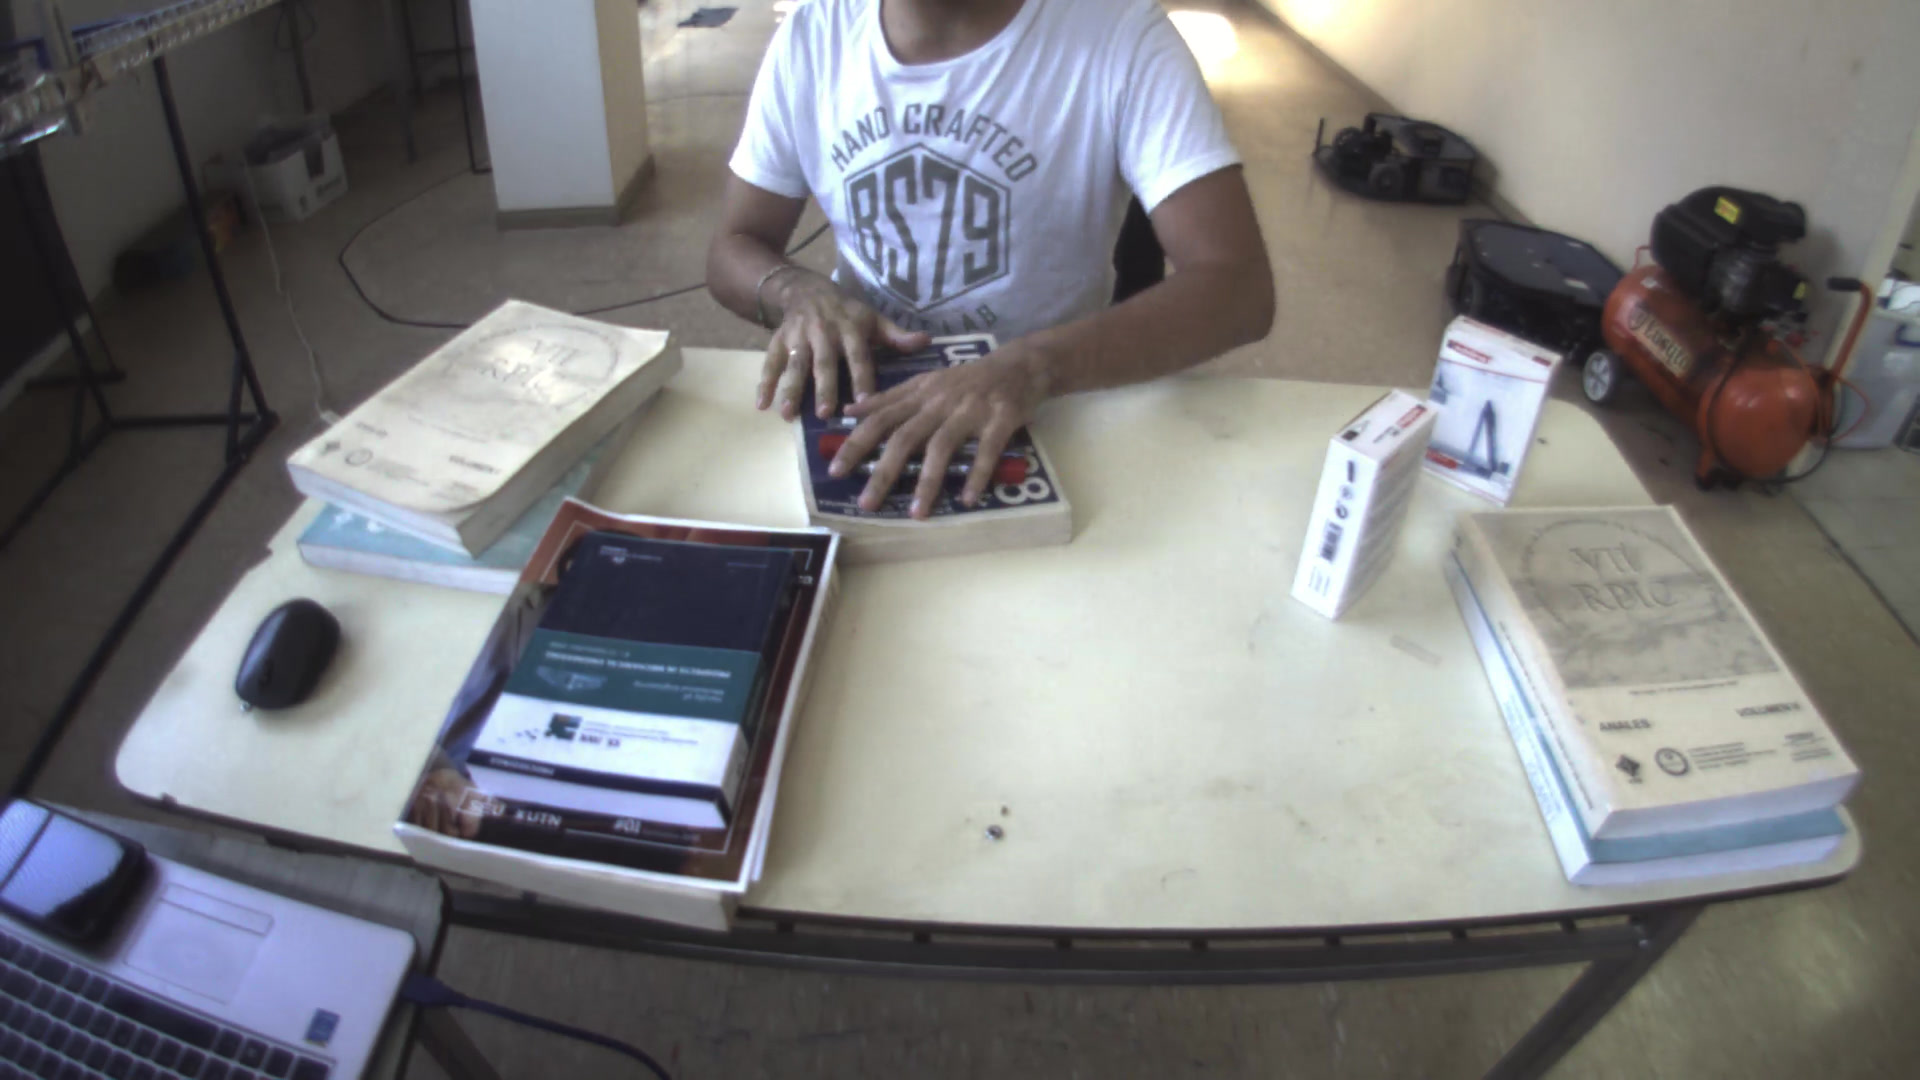hand: (822, 338, 1048, 525), (742, 260, 919, 414)
